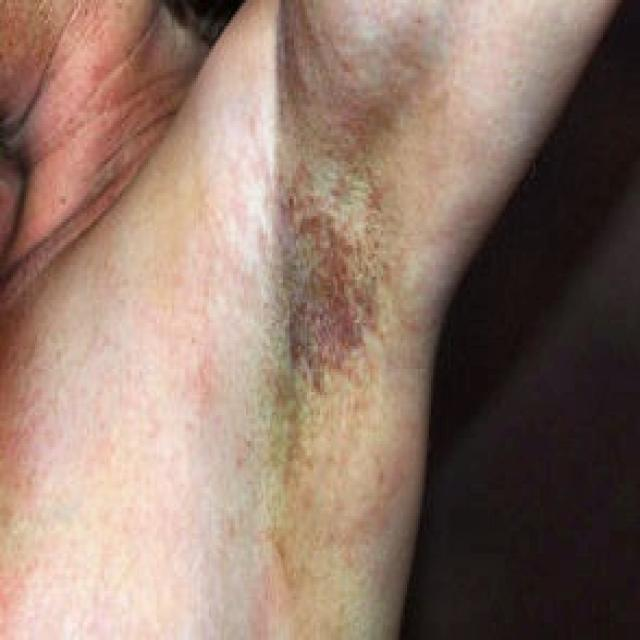Psoriasis-pictures-Lichen-Planus: (203, 77, 396, 578)
